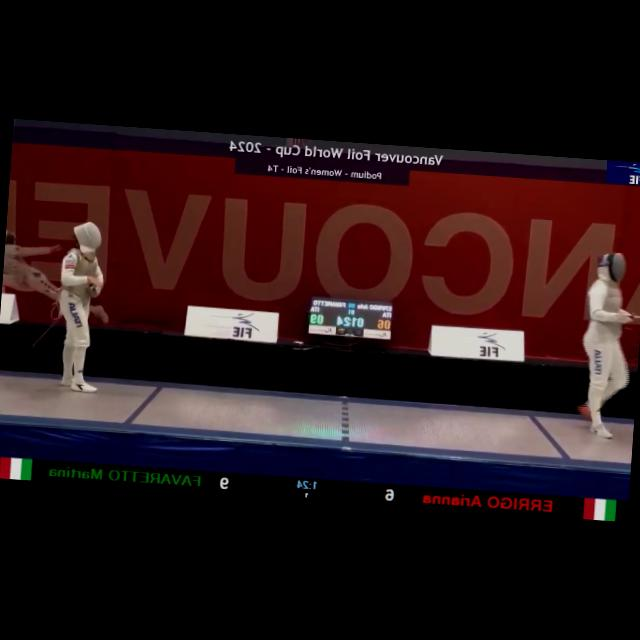blade: (29, 280, 98, 350)
